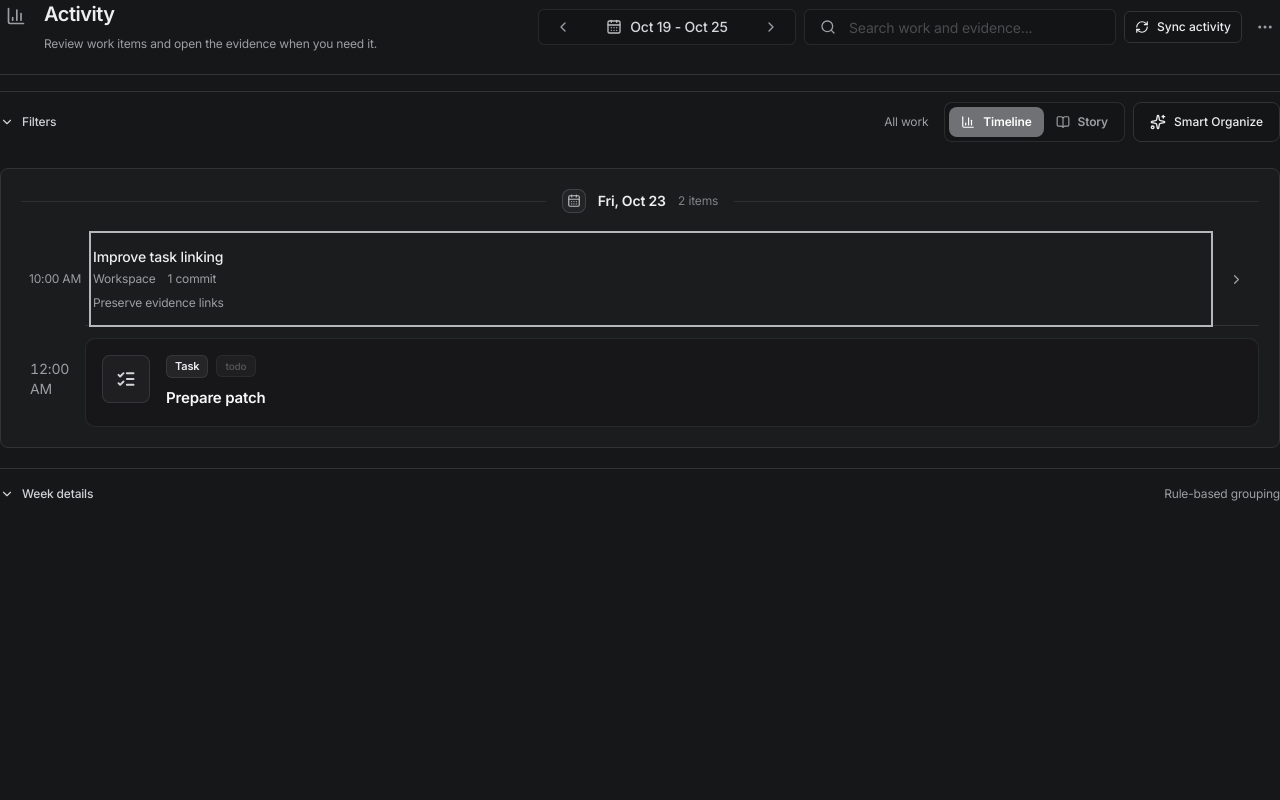
Test case: progressive Developer workflows › opens grouped evidence in a side panel and restores access after Escape
This screenshot has width=1280, height=800.
Click the button with aria-label "Open work item: Improve task linking" at x=158, y=256, box [93, 235, 1209, 323]
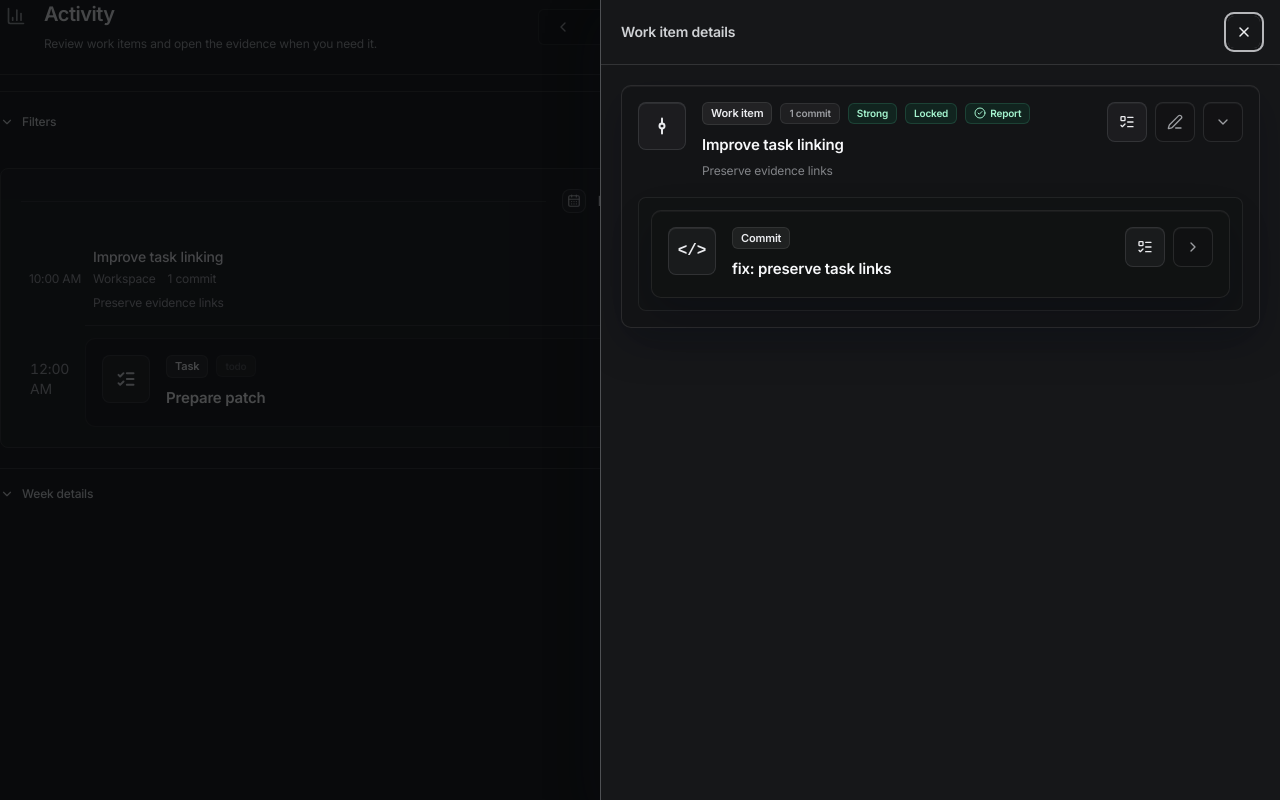
Now the text "fix: preserve task links" is shown, box [732, 259, 891, 278]
Press Escape in the dialog "Work item details", box [600, 0, 1279, 799]
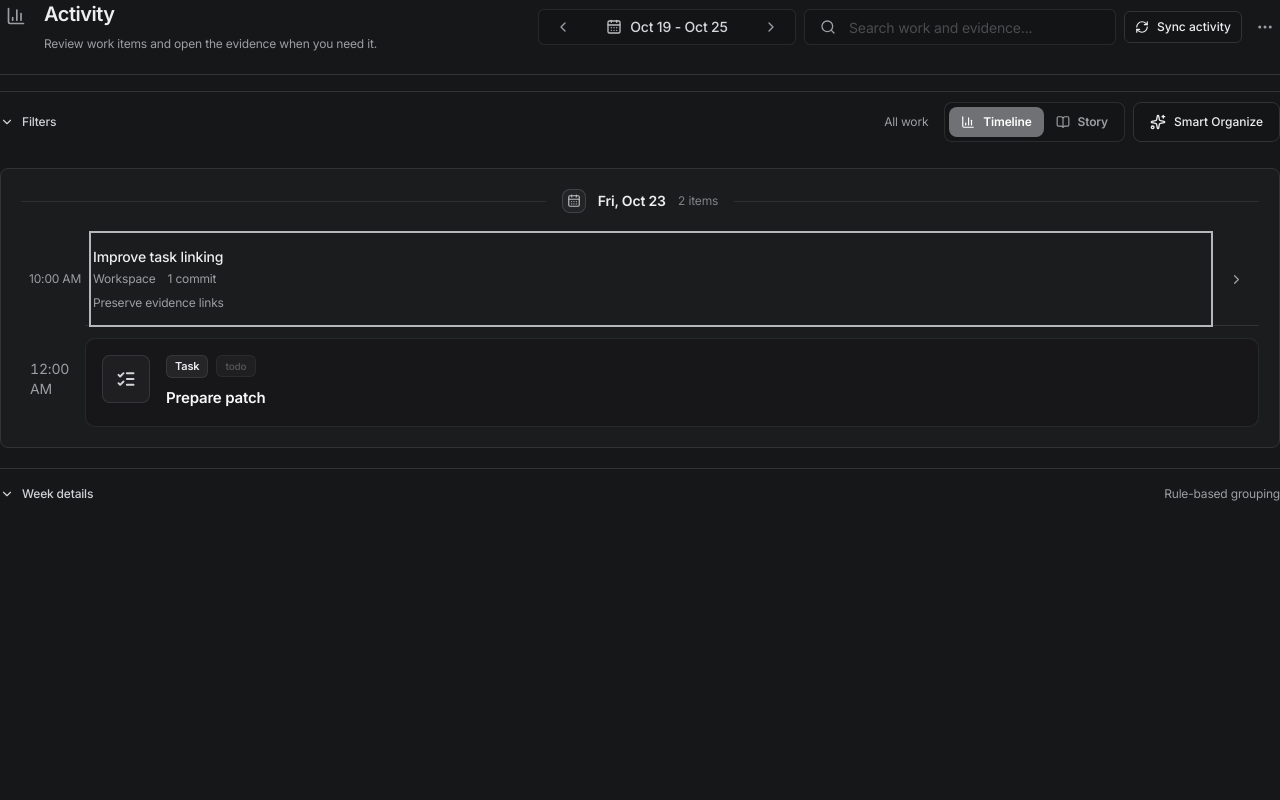
Now the dialog is gone
